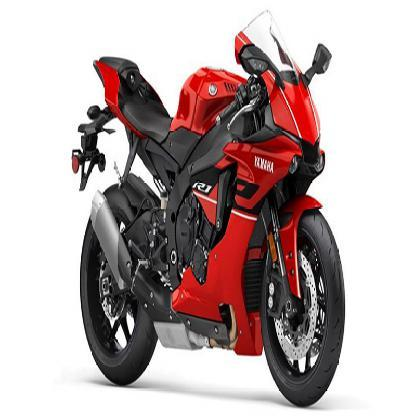Motorcycle: (65, 4, 349, 407)
